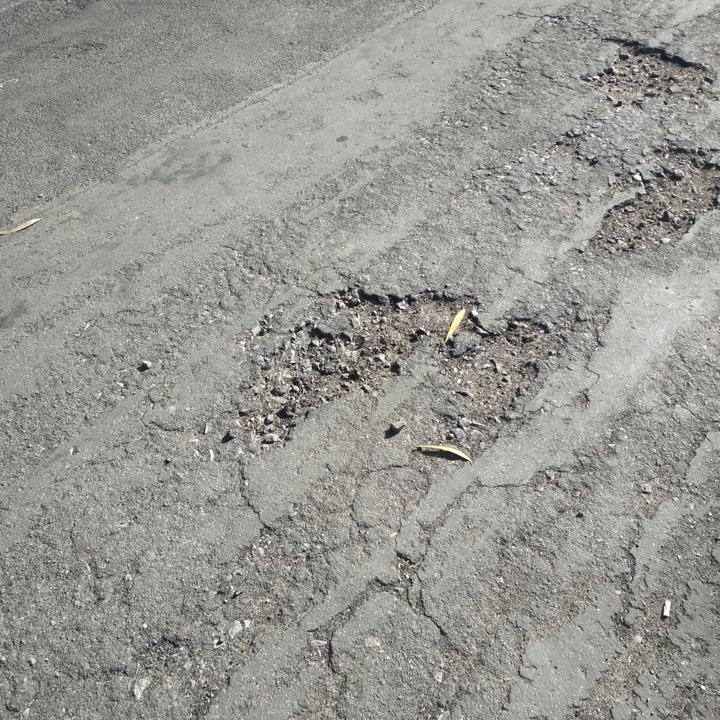pothole: (237, 282, 563, 463), (578, 139, 719, 260), (581, 36, 719, 114)
